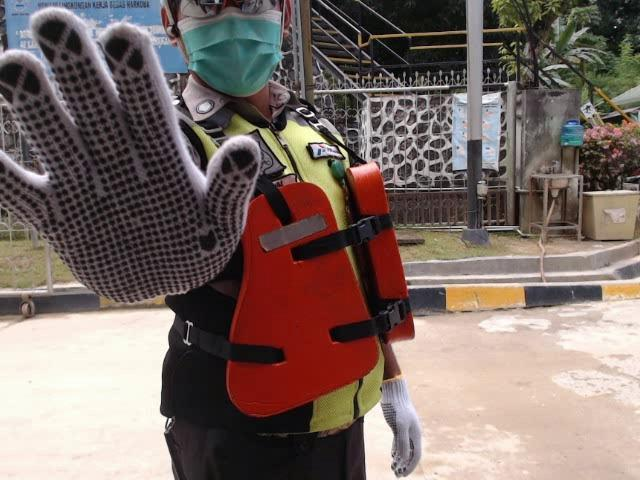vest: (227, 161, 422, 417)
